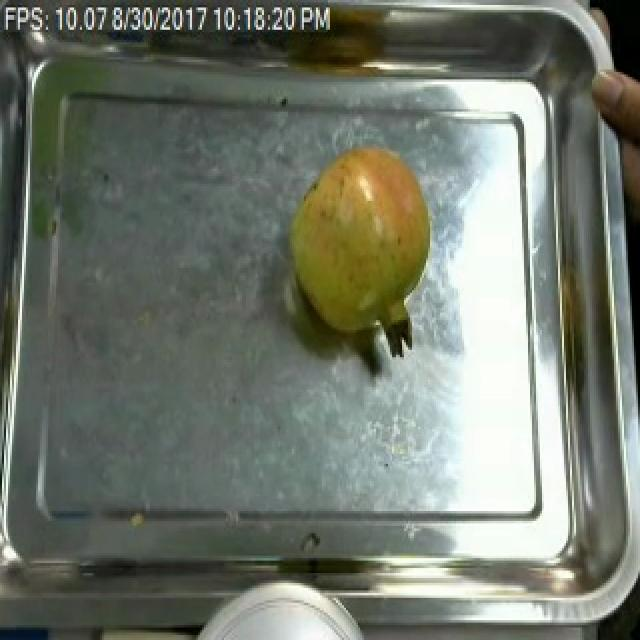fruit: (278, 134, 438, 360)
